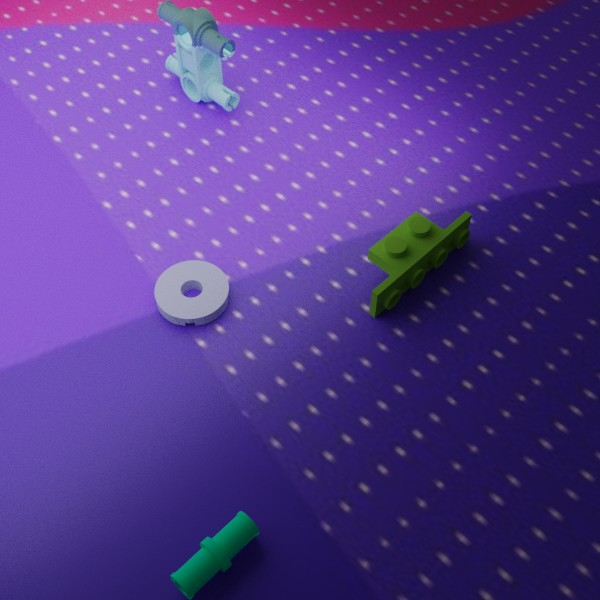lego: (367, 210, 472, 317), (157, 0, 239, 111), (170, 511, 259, 599), (154, 260, 229, 325)
